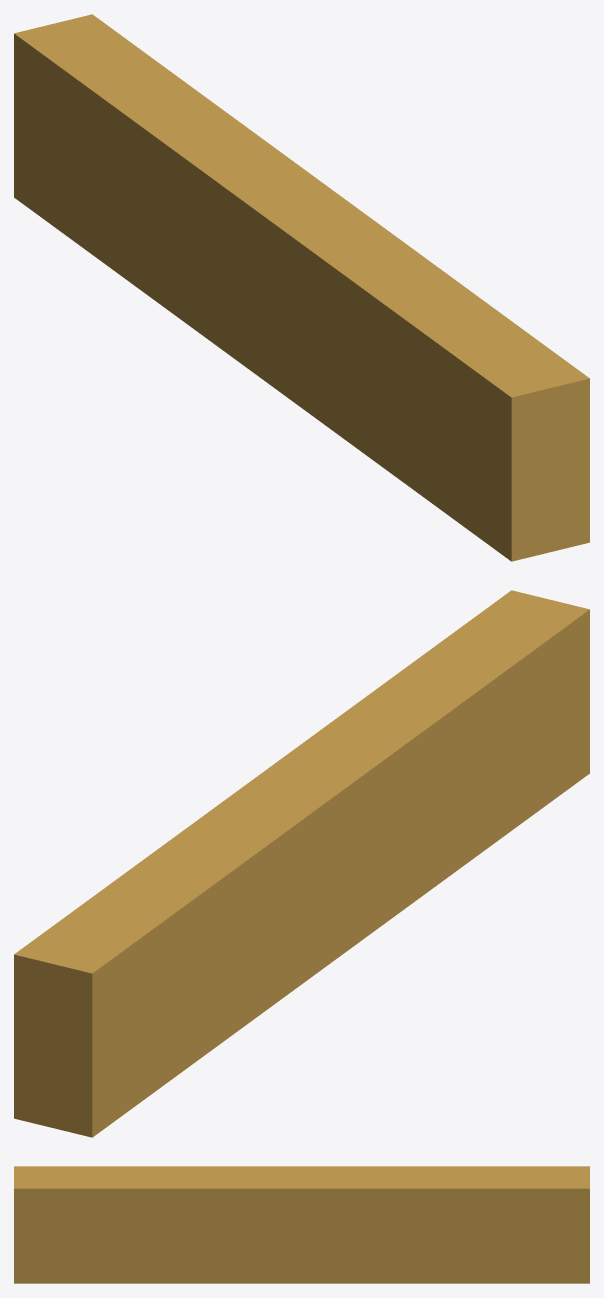
3 renders of one model, top to bottom at view 1: azimuth 30°, elevation 25°; view 2: azimuth 150°, elevation 25°; view 3: azimuth 270°, elevation 25°, orthographic. The views are drawn at different scales.
Parts seen in each view (by area): view 1: GAP-58-LINTEL-0; view 2: GAP-58-LINTEL-0; view 3: GAP-58-LINTEL-0.
Part boxes in pixels (x1,y1,x2,y2): GAP-58-LINTEL-0: (14, 14, 589, 561); GAP-58-LINTEL-0: (14, 590, 589, 1137); GAP-58-LINTEL-0: (14, 1166, 589, 1283).
Bounding box in the file's own units: 0.045 × 0.09 × 0.4947.
